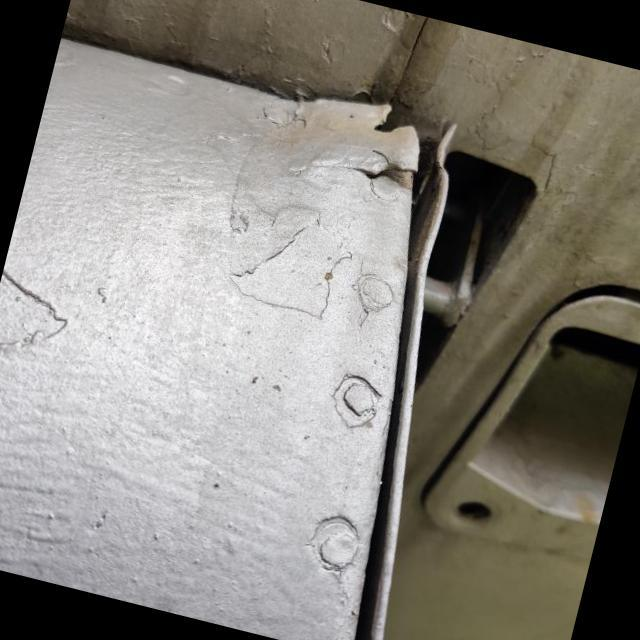Rupture: (334, 135, 431, 204)
